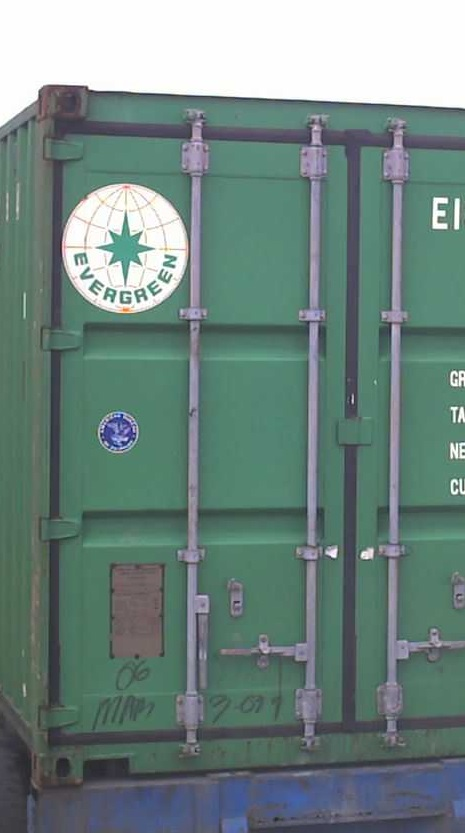container_door: (38, 78, 465, 798)
